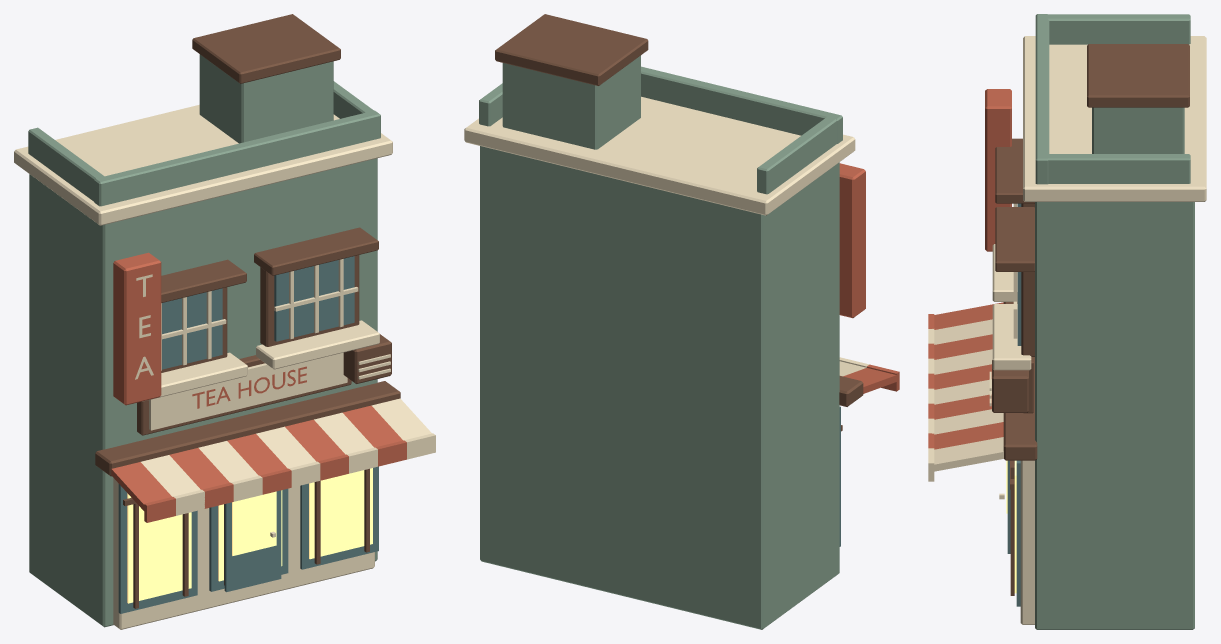
Rendered from tpe_tea_front.glb.
The picture shows the model from 3 angles, left to right: view 1: azimuth 30°, elevation 25°; view 2: azimuth 150°, elevation 25°; view 3: azimuth 270°, elevation 25°; orthographic projection. The views are drawn at different scales.
Visible parts, largest first — view 1: tpe_tea_front__sage-plaster, tpe_tea_front__ivory-trim, tpe_tea_front__dark-walnut, tpe_tea_front__awning-terracotta, tpe_tea_front__blue-window, tpe_tea_front__warm-window; view 2: tpe_tea_front__sage-plaster, tpe_tea_front__ivory-trim, tpe_tea_front__dark-walnut, tpe_tea_front__awning-terracotta; view 3: tpe_tea_front__sage-plaster, tpe_tea_front__ivory-trim, tpe_tea_front__dark-walnut, tpe_tea_front__awning-terracotta, tpe_tea_front__blue-window, tpe_tea_front__warm-window.
Boxes of the visible parts, bbox=[...] form: tpe_tea_front__sage-plaster: bbox=[28, 54, 380, 627]; tpe_tea_front__ivory-trim: bbox=[14, 104, 435, 629]; tpe_tea_front__dark-walnut: bbox=[95, 14, 400, 608]; tpe_tea_front__awning-terracotta: bbox=[111, 252, 406, 522]; tpe_tea_front__blue-window: bbox=[118, 256, 378, 613]; tpe_tea_front__warm-window: bbox=[127, 468, 372, 603]; tpe_tea_front__sage-plaster: bbox=[479, 55, 842, 629]; tpe_tea_front__ivory-trim: bbox=[464, 96, 869, 376]; tpe_tea_front__dark-walnut: bbox=[495, 14, 863, 431]; tpe_tea_front__awning-terracotta: bbox=[839, 163, 899, 393]; tpe_tea_front__sage-plaster: bbox=[1035, 14, 1194, 629]; tpe_tea_front__ivory-trim: bbox=[928, 36, 1206, 624]; tpe_tea_front__dark-walnut: bbox=[992, 44, 1189, 595]; tpe_tea_front__awning-terracotta: bbox=[928, 89, 1011, 449]; tpe_tea_front__blue-window: bbox=[1007, 203, 1021, 606]; tpe_tea_front__warm-window: bbox=[1006, 460, 1016, 593].
Bounding box in the file's own units: 40.92 × 66.16 × 31.6.
